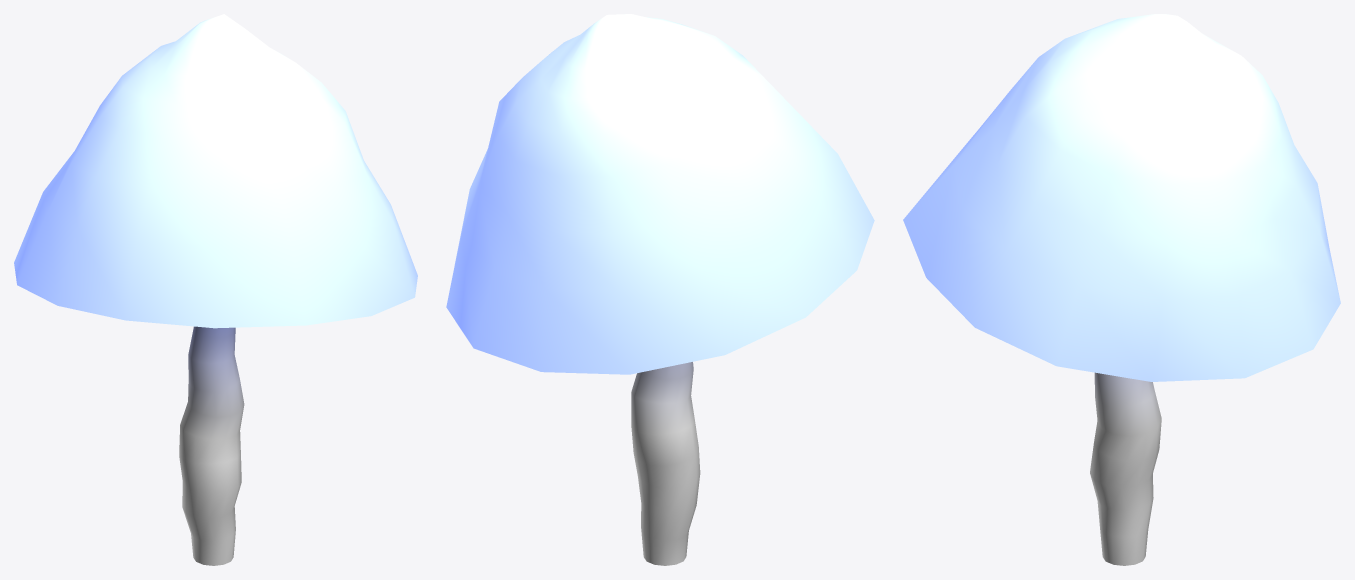
The model's file is mushroom_5.glb.
3 views of the same model, side by side, from view 1: azimuth 30°, elevation 25°; view 2: azimuth 150°, elevation 25°; view 3: azimuth 270°, elevation 25° (orthographic). The views are drawn at different scales.
Parts seen in each view (by area): view 1: geo1; view 2: geo1; view 3: geo1.
Boxes of the visible parts, box(x1,y1,x2,y2) form: geo1: box(14, 14, 417, 565); geo1: box(446, 14, 874, 565); geo1: box(903, 14, 1340, 565).
Bounding box in the file's own units: 0.2408 × 0.3501 × 0.2505.
